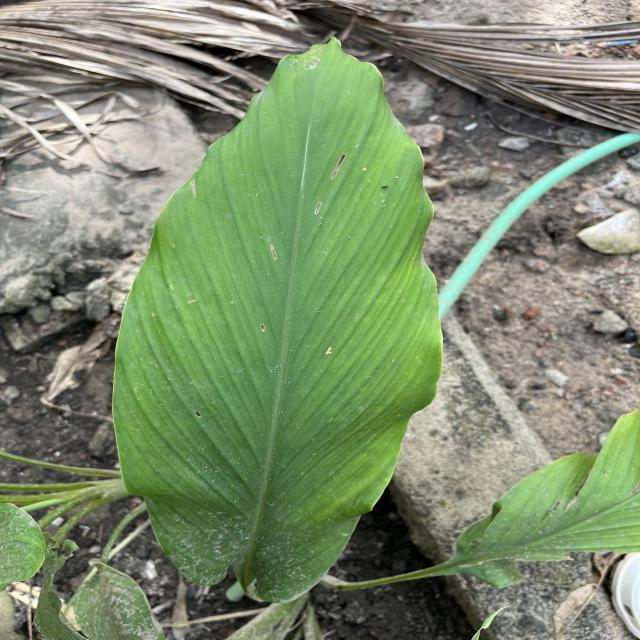Curcuma longa: (110, 32, 450, 610)
